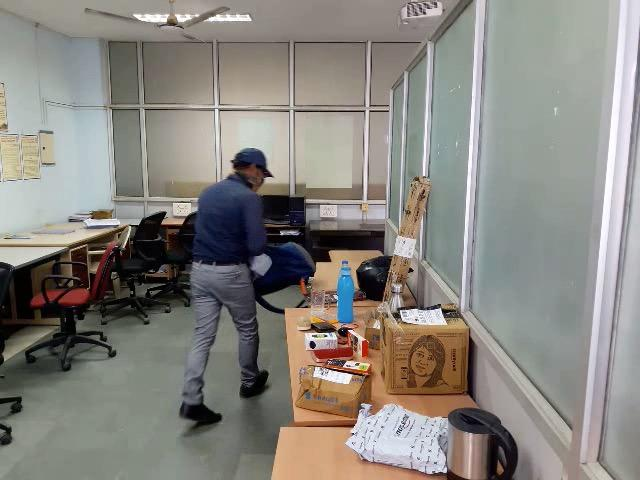shoplifting: (172, 227, 384, 336)
